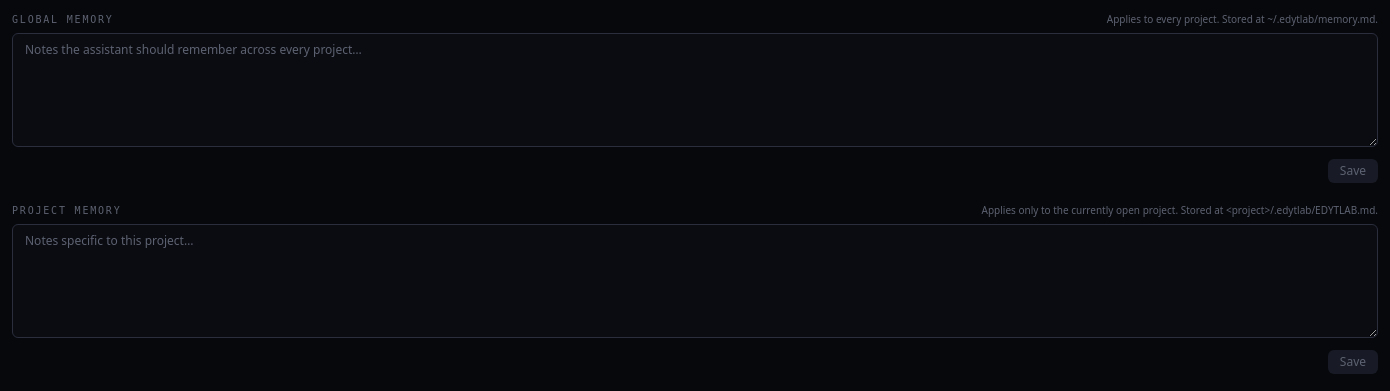
Test: MemoryEditor › surfaces a write error in the status line
The image size is (1390, 391).
Type "x" into the text box with test id "memory-textarea-global" at x=695, y=90, box [12, 33, 1378, 147]
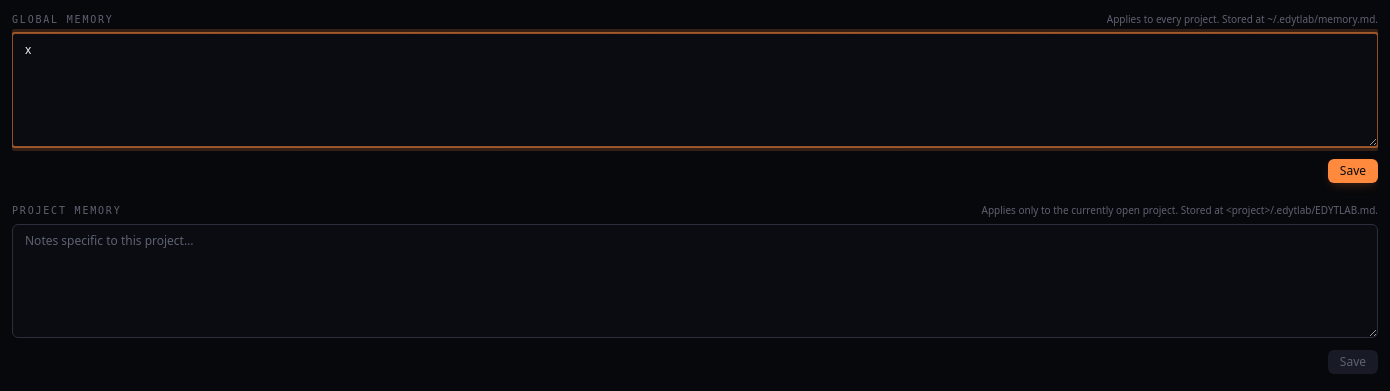
Click the button with test id "memory-save-global" at x=1353, y=171, box [1328, 159, 1378, 183]
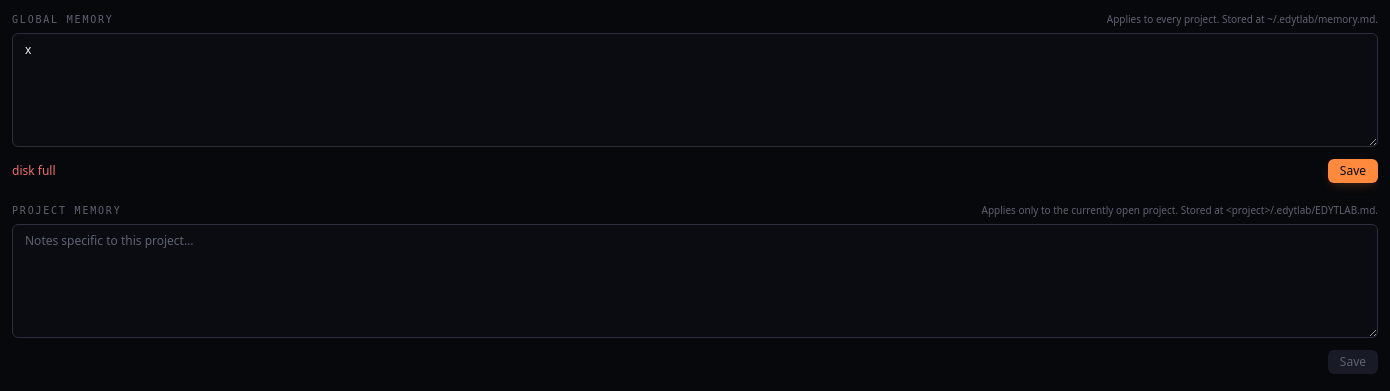
Expected: the text with test id "memory-status-global" reads "disk full", [12, 162, 56, 179]
